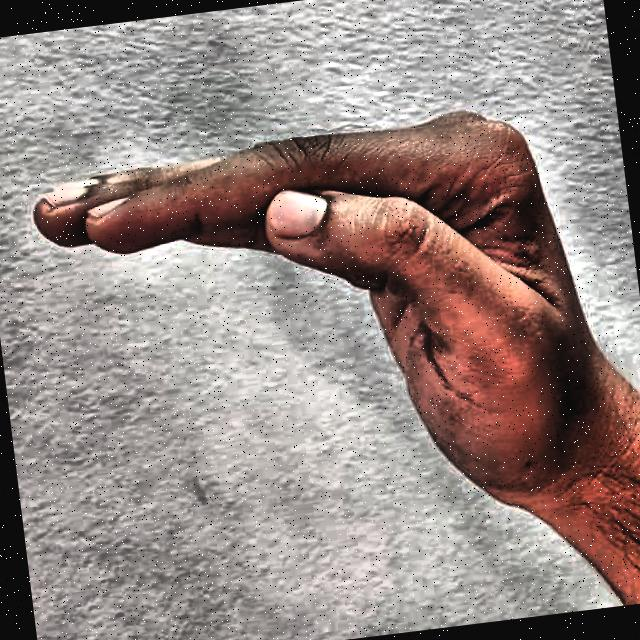Ga: (9, 28, 636, 596)
